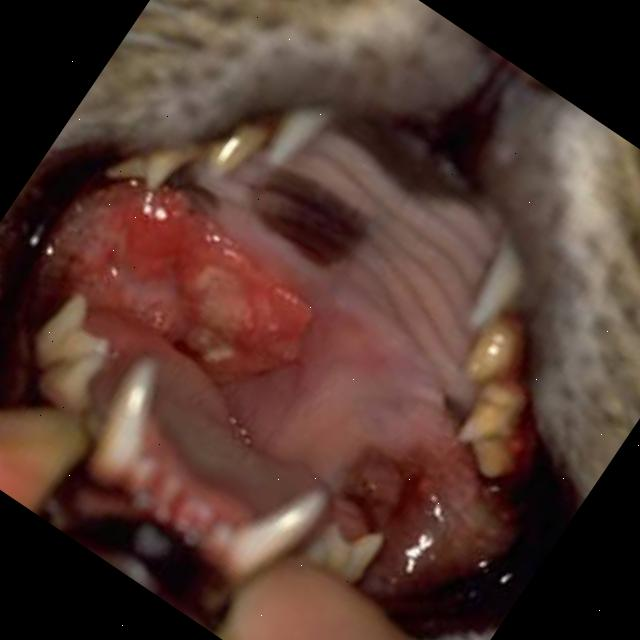cat-lump-and-bump: (78, 185, 328, 404), (359, 447, 494, 582)
